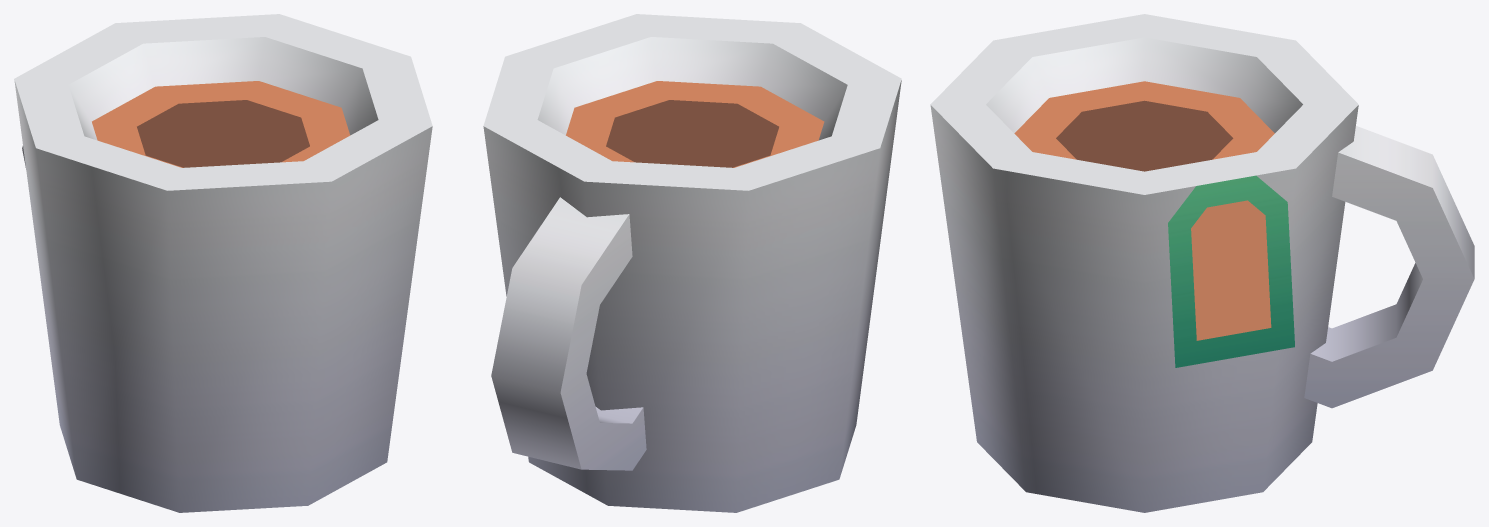
The model's file is kenney-food-cup-tea.glb.
3 renders of one model, left to right at view 1: azimuth 30°, elevation 25°; view 2: azimuth 150°, elevation 25°; view 3: azimuth 270°, elevation 25°, orthographic.
Visible parts, largest first — view 1: cup-tea; view 2: cup-tea; view 3: cup-tea.
Boxes of the visible parts, x1,y1,x2,y2 form: cup-tea: (14,14,432,512); cup-tea: (483,14,901,512); cup-tea: (930,14,1474,512).
Bounding box in the file's own units: 0.2369 × 0.2 × 0.2921.
1 material, 1 textured.
